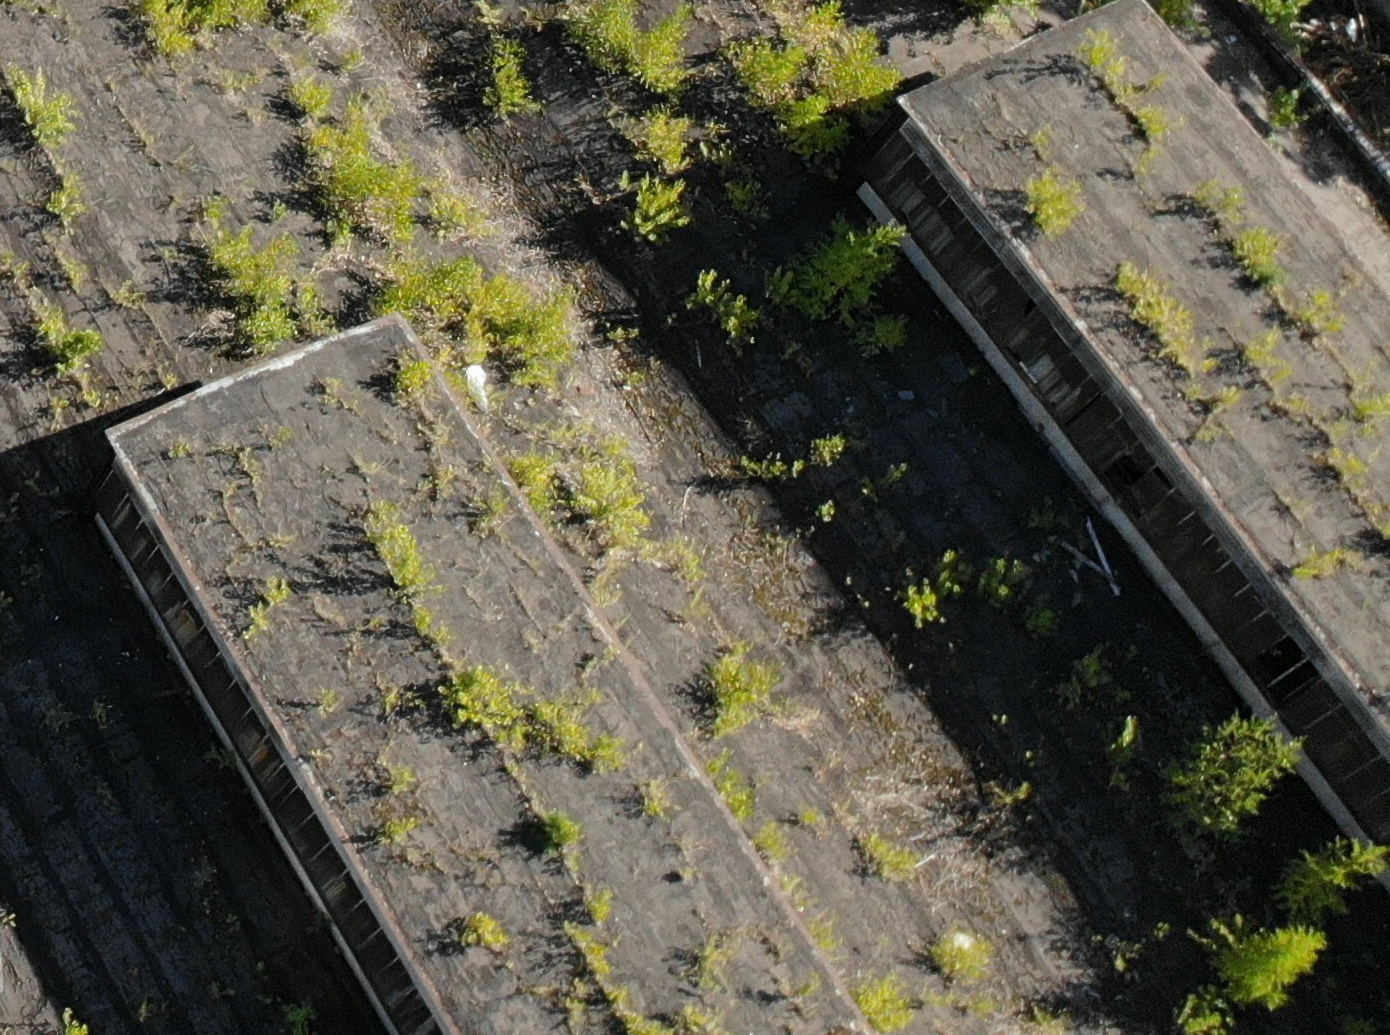tree: (378, 249, 593, 409), (728, 1, 914, 173), (277, 77, 441, 253), (763, 209, 935, 351), (530, 439, 697, 582), (1170, 723, 1295, 878), (1184, 905, 1337, 1022), (594, 100, 713, 247), (1064, 28, 1175, 184), (200, 238, 335, 364), (573, 3, 713, 114), (1113, 249, 1216, 394), (519, 686, 649, 791), (1197, 187, 1297, 308), (677, 261, 786, 370), (693, 641, 797, 740), (18, 269, 107, 383), (136, 7, 281, 75), (473, 29, 558, 142), (14, 63, 85, 170), (366, 503, 442, 600), (1013, 159, 1089, 245), (851, 827, 938, 899), (433, 665, 515, 736), (984, 549, 1053, 632), (797, 422, 860, 506), (844, 967, 916, 1025), (1242, 333, 1298, 399), (907, 569, 951, 645), (450, 905, 513, 955), (930, 930, 989, 983), (540, 801, 585, 863)
